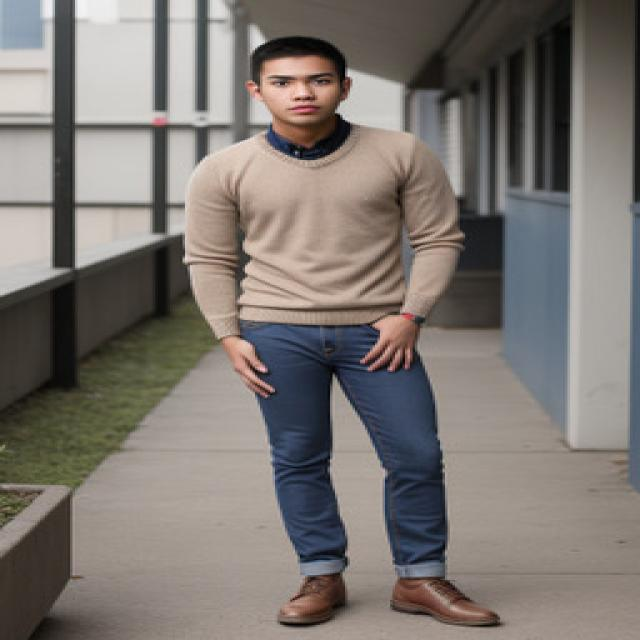Ai human 2: (171, 23, 514, 639)
